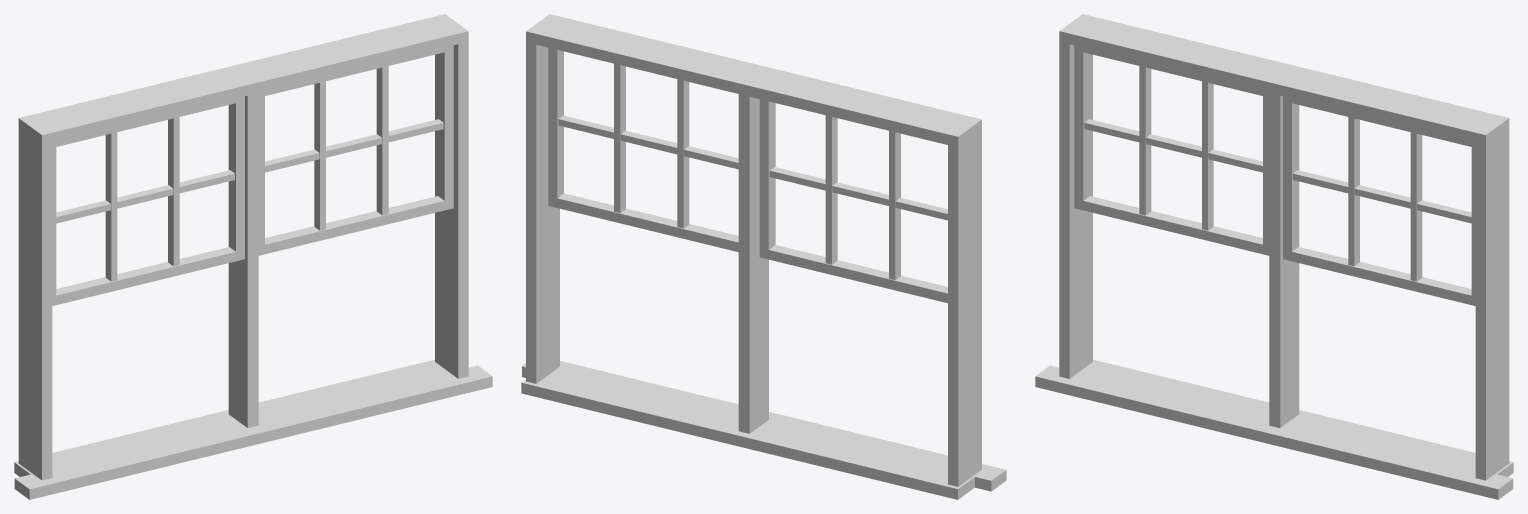
The model's file is Window3_03.fbx.
3 renders of one model, left to right at view 1: azimuth 30°, elevation 25°; view 2: azimuth 150°, elevation 25°; view 3: azimuth 330°, elevation 25°, orthographic.
Visible parts, largest first — view 1: Window3_03; view 2: Window3_03; view 3: Window3_03.
Boxes of the visible parts, bbox=[...] form: Window3_03: bbox=[14, 14, 492, 499]; Window3_03: bbox=[521, 14, 1006, 499]; Window3_03: bbox=[1035, 14, 1513, 499].
Size of the model in its own units: 228 by 168 by 27.
